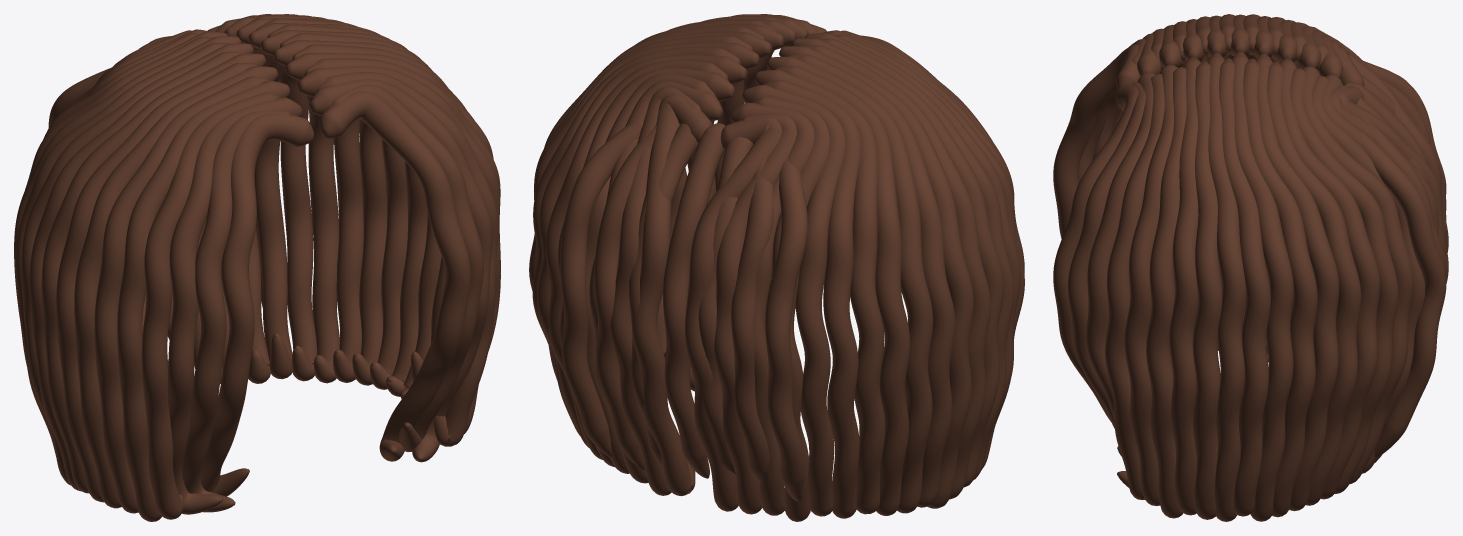
File: Masculine-locs-hair.glb
3 views of the same model, side by side, from view 1: azimuth 30°, elevation 25°; view 2: azimuth 150°, elevation 25°; view 3: azimuth 270°, elevation 25° (orthographic). The views are drawn at different scales.
Parts seen in each view (by area): view 1: 226 hair / Hair / loc texture227; view 2: 226 hair / Hair / loc texture227; view 3: 226 hair / Hair / loc texture227.
Part boxes in pixels (bbox=[...]): 226 hair / Hair / loc texture227: bbox=[14, 14, 500, 521]; 226 hair / Hair / loc texture227: bbox=[529, 14, 1024, 521]; 226 hair / Hair / loc texture227: bbox=[1053, 14, 1448, 521].
Bounding box in the file's own units: 1.08 × 0.9763 × 0.8751.
